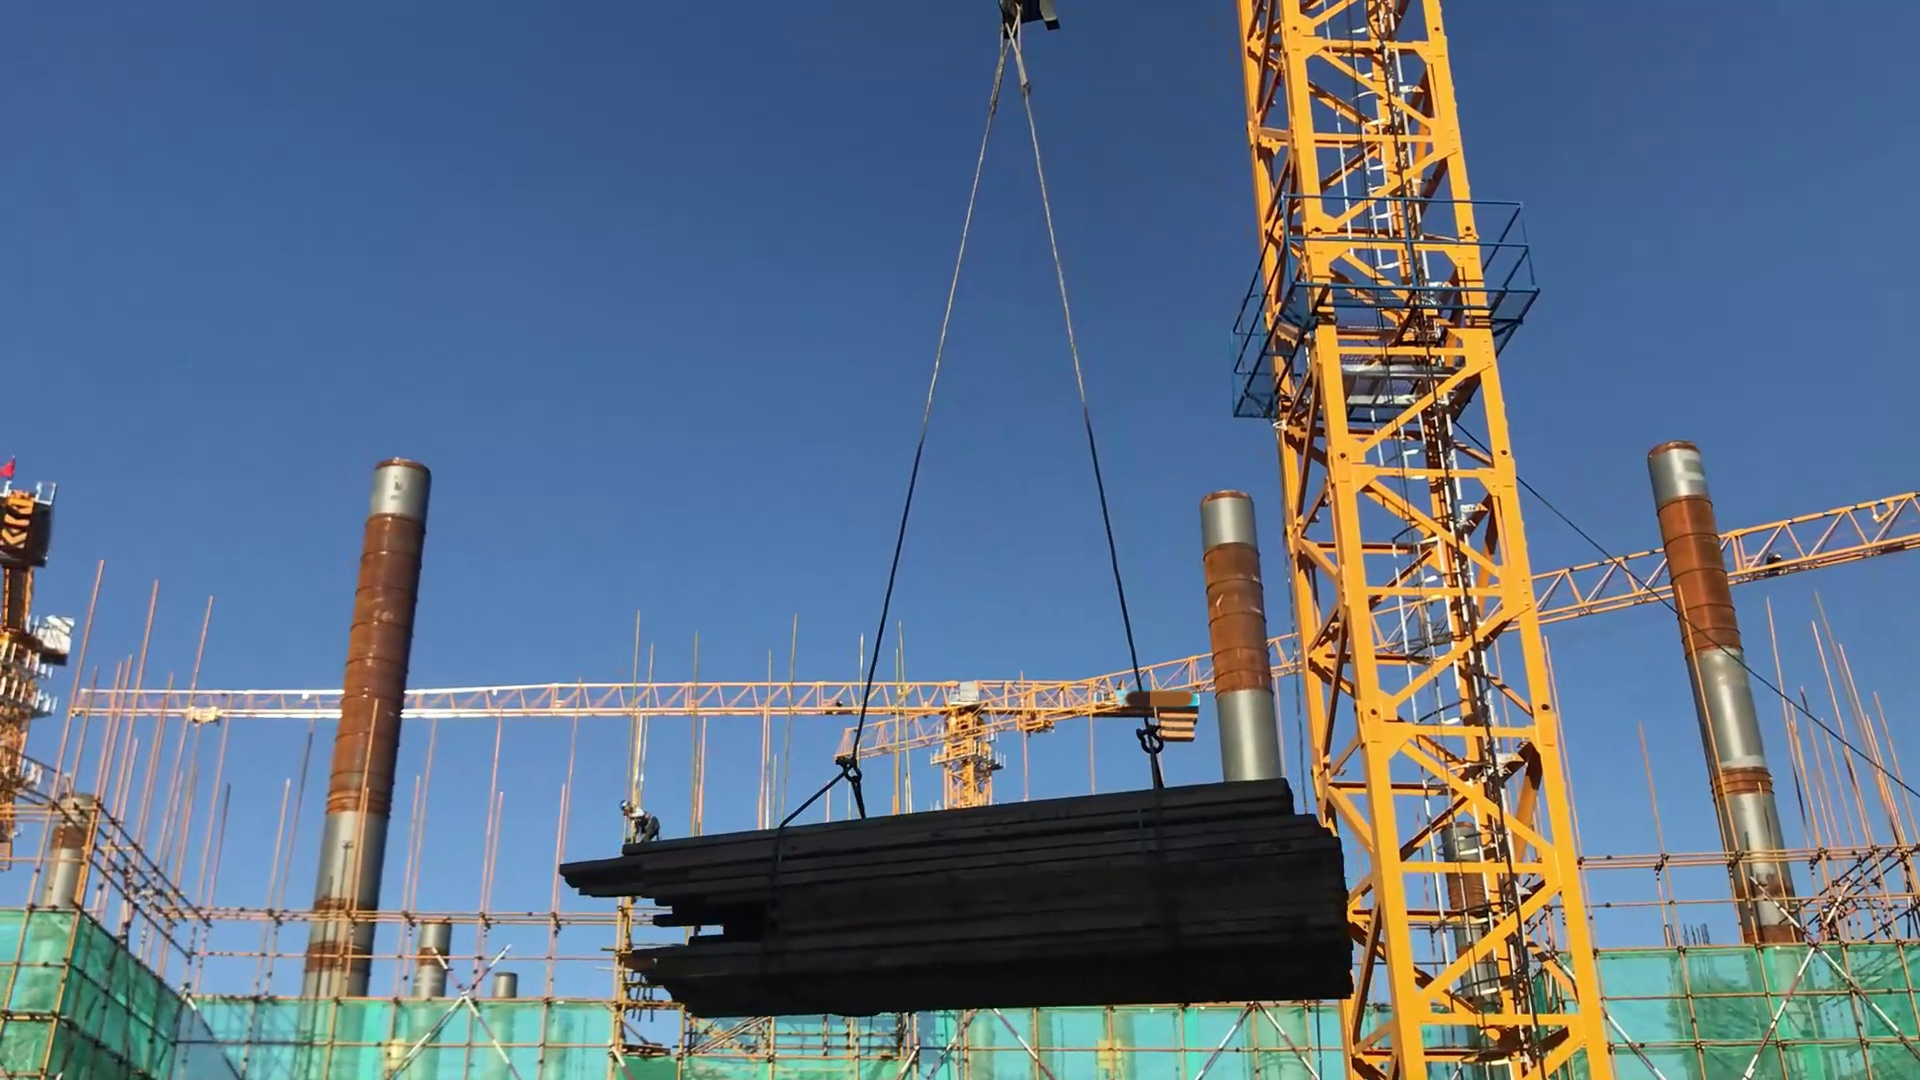wood: (554, 767, 1352, 1011)
